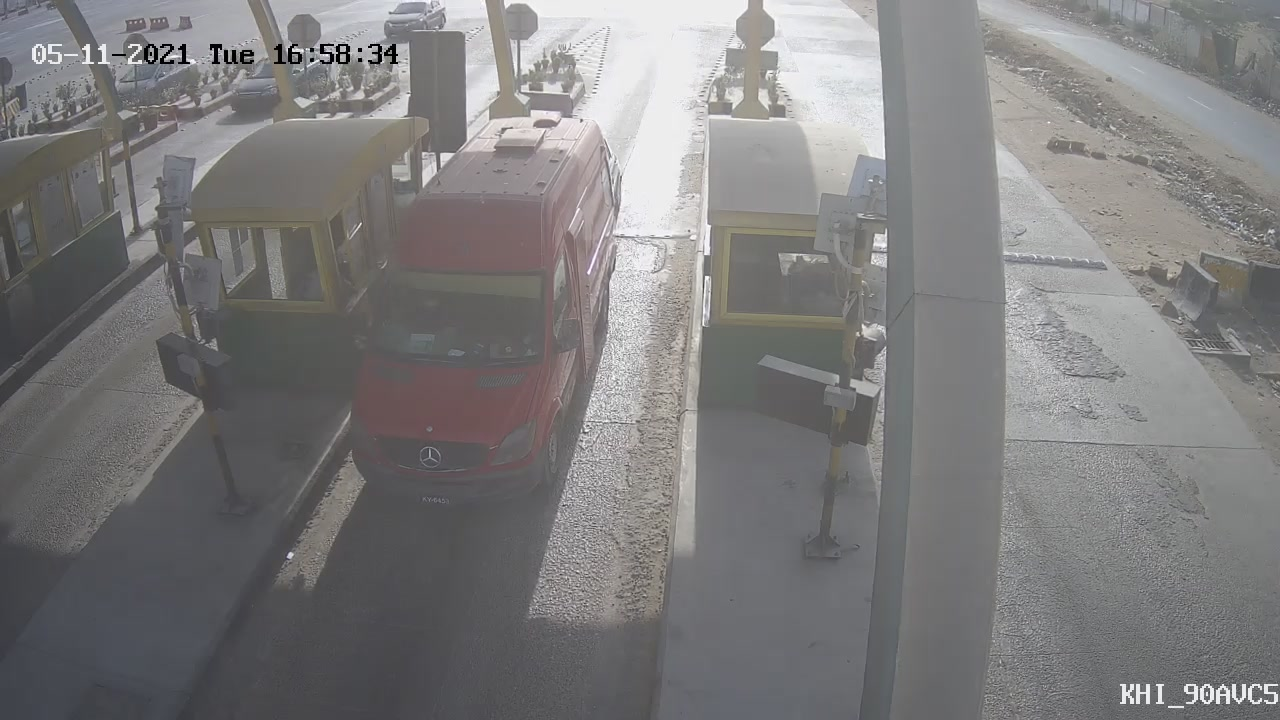F2: (292, 82, 646, 526)
